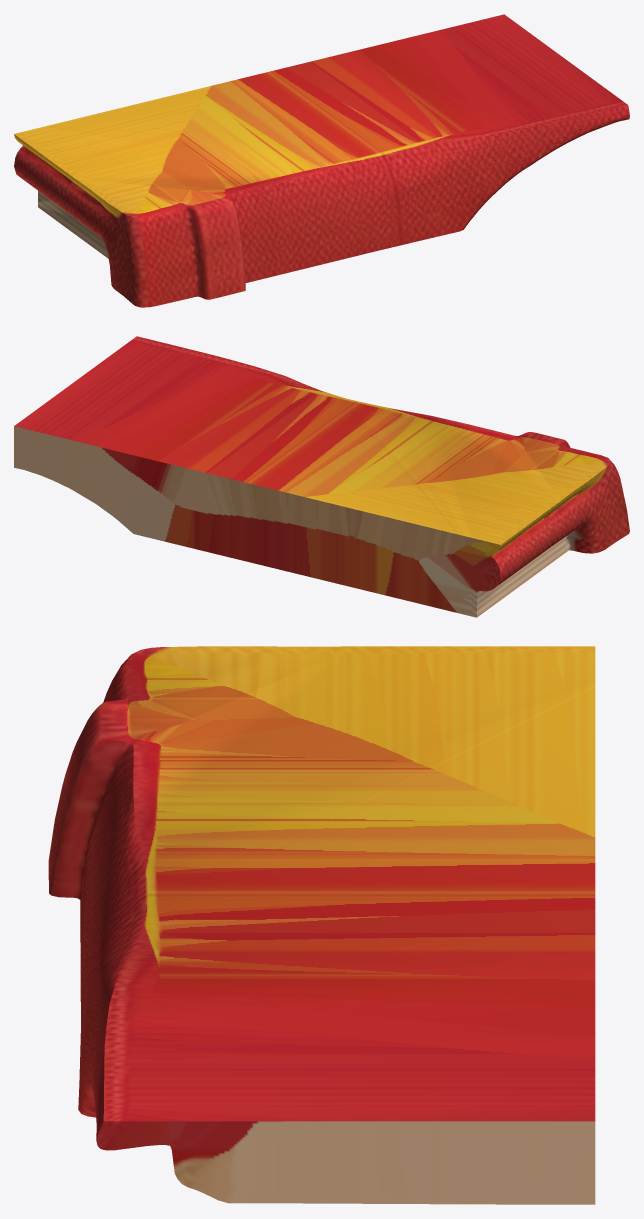
The model's file is 9-roof-front-left.fbx.
3 views of the same model, one above another, from view 1: azimuth 30°, elevation 25°; view 2: azimuth 150°, elevation 25°; view 3: azimuth 270°, elevation 25° (orthographic). The views are drawn at different scales.
Parts seen in each view (by area): view 1: roof-front-left; view 2: roof-front-left; view 3: roof-front-left.
Part boxes in pixels (x1=…): roof-front-left: x1=14, y1=14, x2=629, y2=307; roof-front-left: x1=14, y1=336, x2=629, y2=617; roof-front-left: x1=48, y1=646, x2=595, y2=1204.
Size of the model in its own units: 6038 by 924 by 2911.
Materials: 1 (1 with a texture image).
